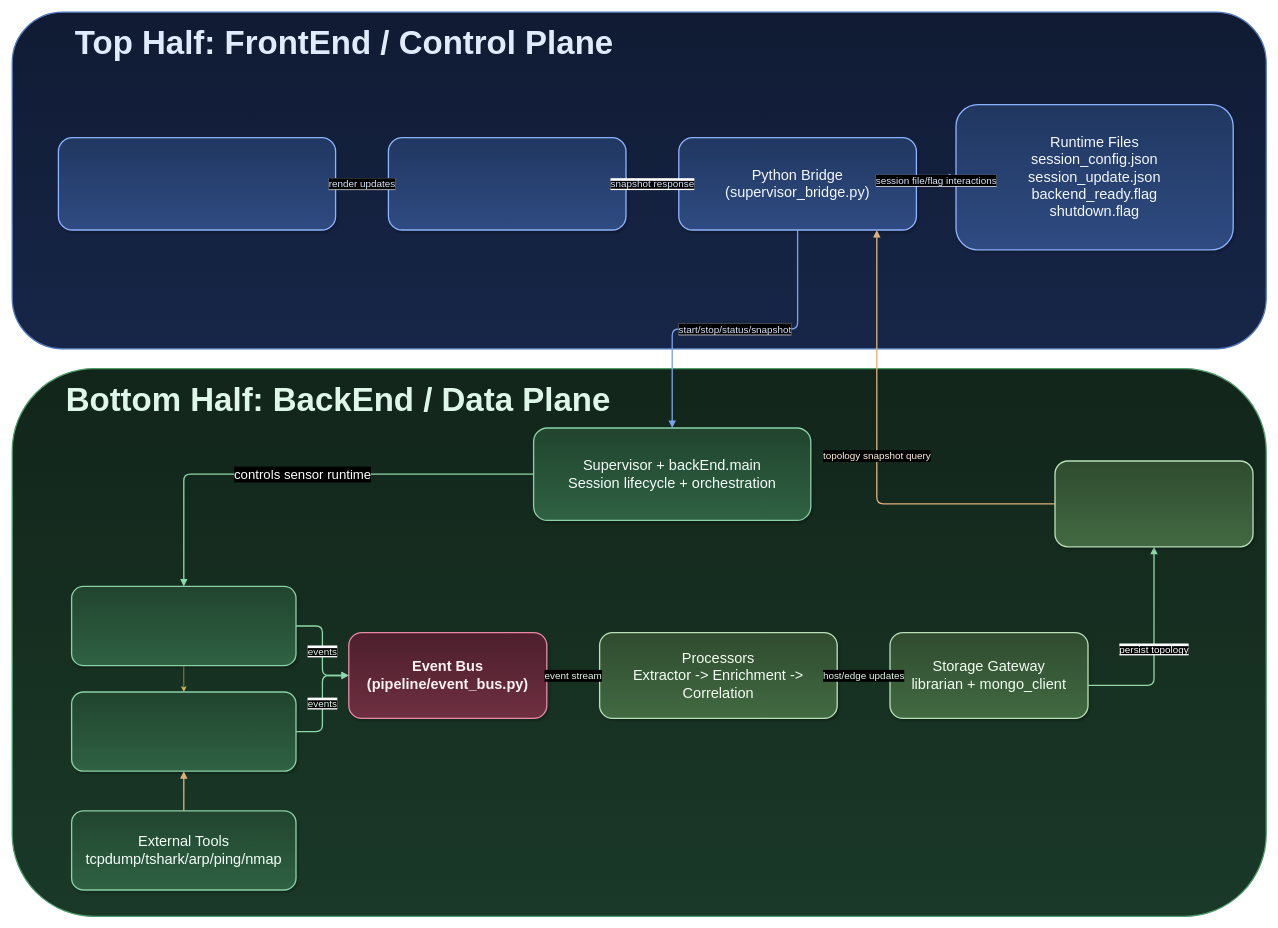
Some shapes in this 1278 by 928 pixel diagram are drawn without their labels. Each missing label, with the centre of its shape:
"Active Sensor ICMP + Nmap scans" goes at (184,732).
"Electron Main + Preload (main.js + preload.js)" goes at (507,184).
"Launcher + Dashboard UI (launch_controller + main_controller)" goes at (197,184).
"MongoDB hosts + edges" goes at (1154,504).
"Passive Sensor tcpdump/tshark + ARP/neighbor" goes at (184,627).
